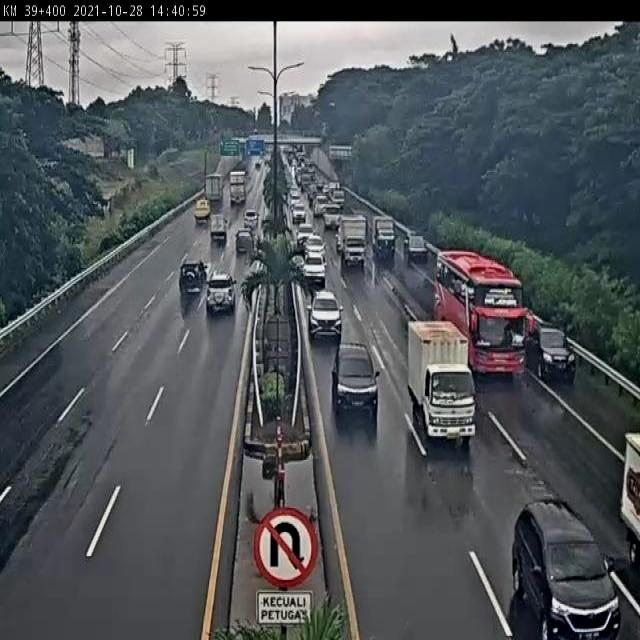Bus: (434, 251, 528, 380)
Car: (511, 501, 620, 636), (330, 341, 379, 428), (524, 319, 576, 384), (307, 290, 343, 341), (206, 270, 237, 313), (179, 258, 207, 297), (302, 255, 326, 291), (405, 235, 428, 265), (303, 233, 326, 262), (235, 228, 254, 256), (296, 222, 314, 250), (291, 202, 306, 225), (314, 194, 328, 217), (243, 208, 259, 228), (291, 188, 301, 202)
Truck: (406, 320, 476, 444), (338, 213, 368, 270), (372, 216, 396, 263), (229, 170, 249, 206), (210, 214, 228, 243), (205, 174, 224, 199), (323, 209, 342, 231), (330, 187, 344, 208)
